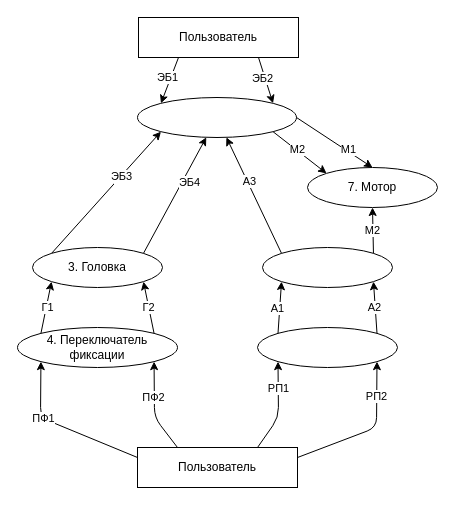
Image size: 455x505. Some labels were removed from this diagram. The centre of each missing label's shape, as x and y in pixels:
1. Электробритва: [216,117]
5. Аккумулятор: [327,267]
6. Разъем питания: [327,347]
